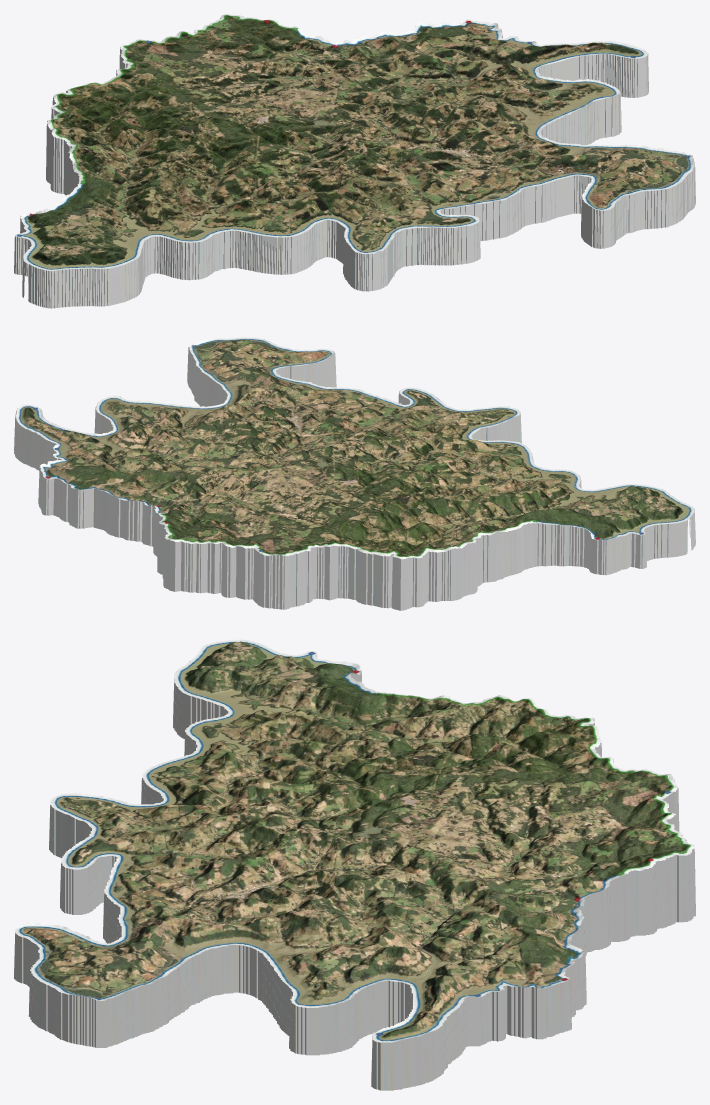
3 renders of one model, top to bottom at view 1: azimuth 30°, elevation 25°; view 2: azimuth 150°, elevation 25°; view 3: azimuth 270°, elevation 25°, orthographic. The views are drawn at different scales.
Bounding box in the file's own units: 0.1 × 0.00837 × 0.071.
Materials: 1 (1 with a texture image).
